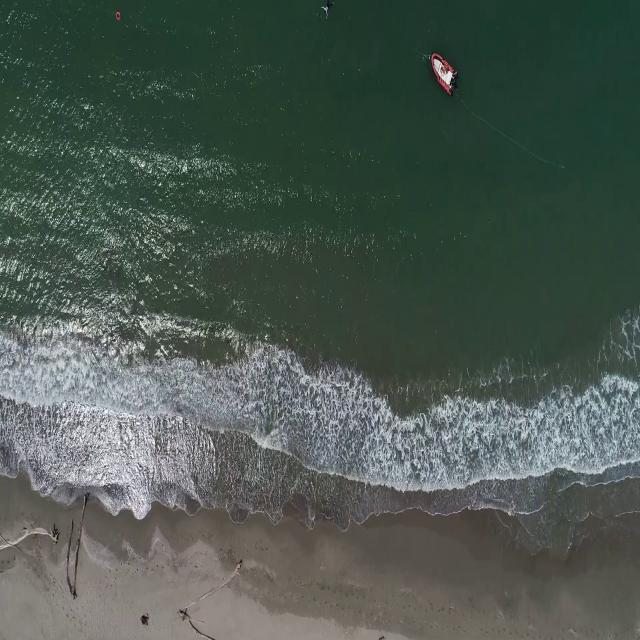boat: (431, 52, 458, 97)
life_buoy: (114, 10, 123, 22)
person: (320, 0, 334, 23)
wood: (176, 562, 243, 613), (67, 494, 88, 606), (178, 607, 226, 640), (0, 525, 63, 549)
